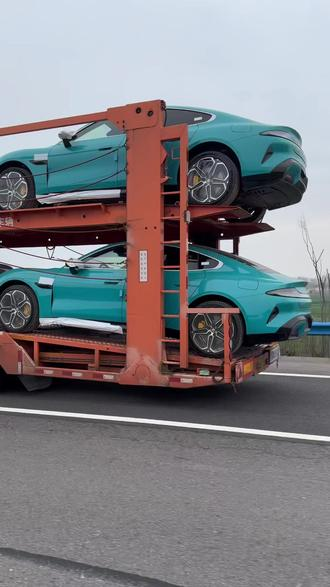su7: (5, 88, 309, 212), (3, 242, 308, 357)
